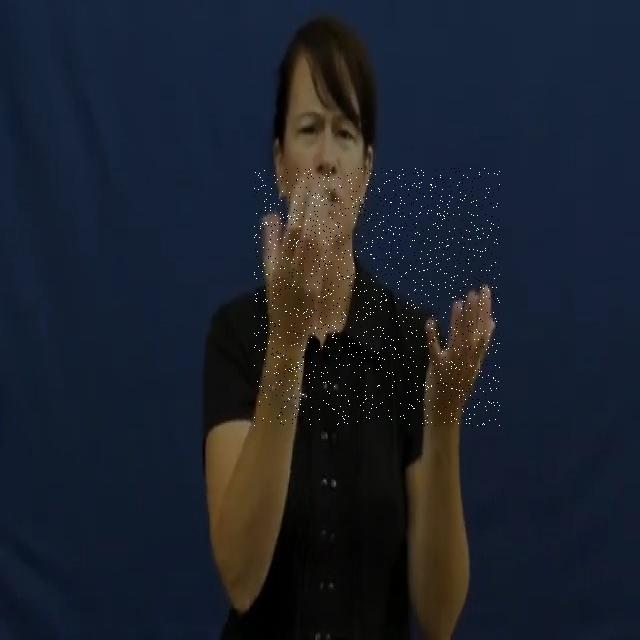menu: (254, 168, 500, 426)
